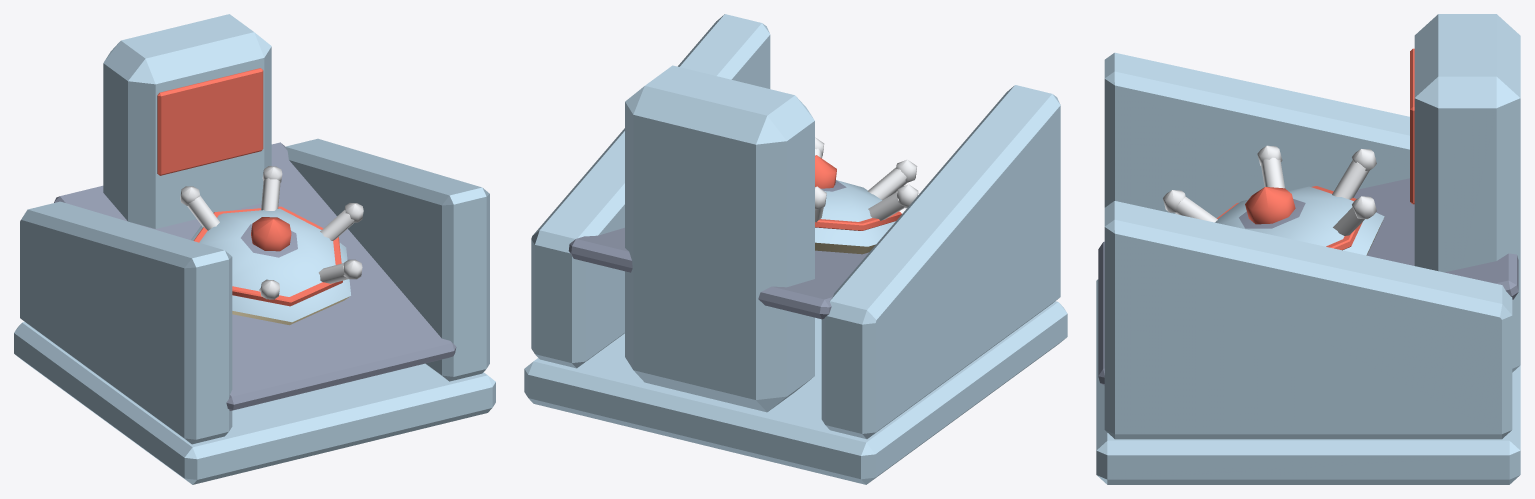
The model's file is R4X_ExplosiveTrapDeployer_LOD1.glb.
The picture shows the model from 3 angles, left to right: view 1: azimuth 30°, elevation 25°; view 2: azimuth 150°, elevation 25°; view 3: azimuth 270°, elevation 25°; orthographic projection. The views are drawn at different scales.
Visible parts, largest first — view 1: R4X_ExplosiveTrapDeployer_LOD1; view 2: R4X_ExplosiveTrapDeployer_LOD1; view 3: R4X_ExplosiveTrapDeployer_LOD1.
Boxes of the visible parts, left/top/right/bottom form: R4X_ExplosiveTrapDeployer_LOD1: left=14, top=14, right=495, bottom=484; R4X_ExplosiveTrapDeployer_LOD1: left=524, top=14, right=1067, bottom=484; R4X_ExplosiveTrapDeployer_LOD1: left=1096, top=14, right=1520, bottom=484.
Size of the model in its own units: 0.52 by 0.48 by 0.52.
